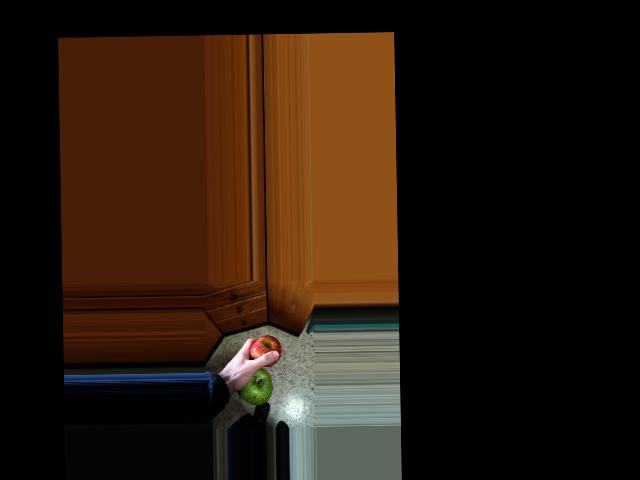apple: (233, 366, 275, 408)
